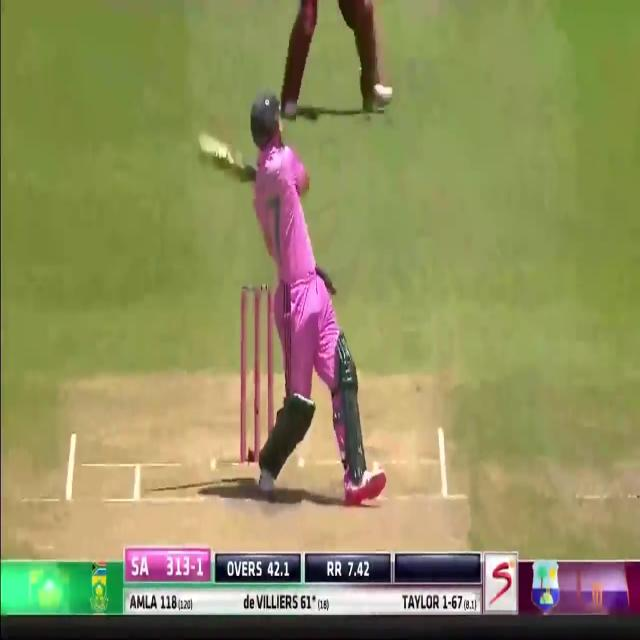Ball: (236, 81, 385, 504)
Fielder: (278, 1, 331, 111)
